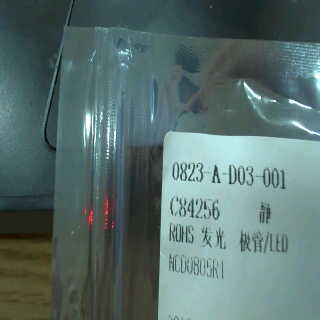LED: (198, 222, 299, 257)
